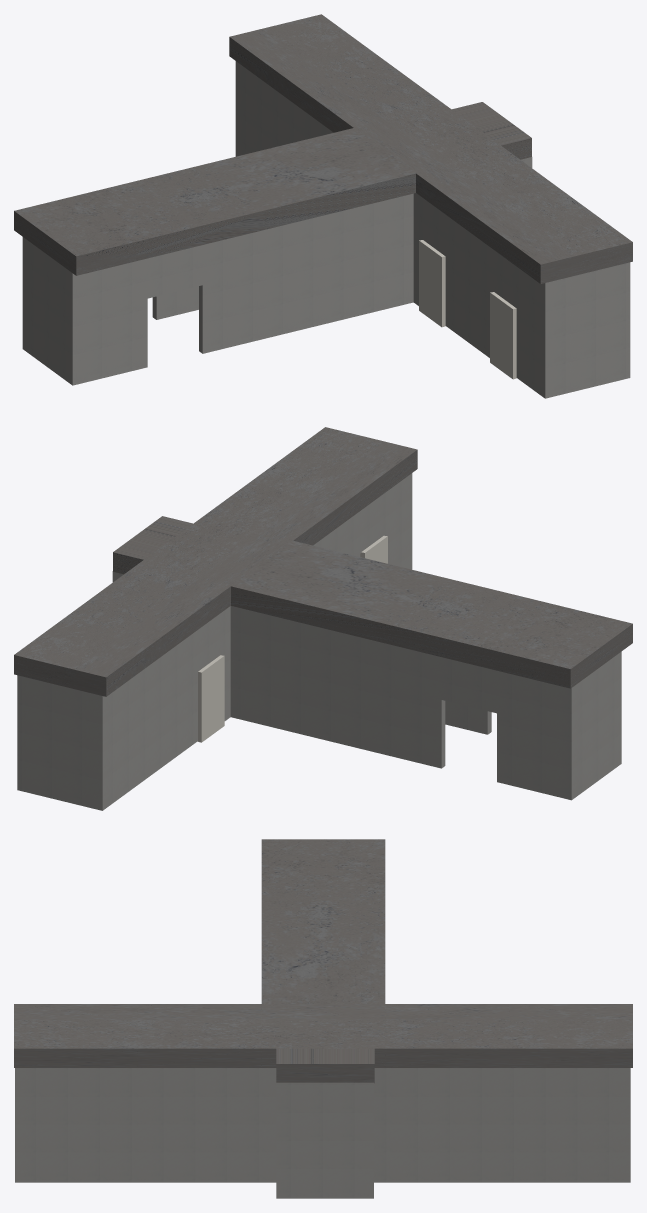
3 renders of one model, top to bottom at view 1: azimuth 30°, elevation 25°; view 2: azimuth 150°, elevation 25°; view 3: azimuth 270°, elevation 25°, orthographic.
Parts seen in each view (by area): view 1: Building, Cielling, zz001, zz002; view 2: Building, Cielling, zz; view 3: Building, Cielling.
Boxes of the visible parts, <box> form: Building: <box>22,61,630,398</box>; Cielling: <box>14,14,632,283</box>; zz001: <box>419,240,445,327</box>; zz002: <box>490,292,516,379</box>; Building: <box>17,473,621,810</box>; Cielling: <box>14,427,632,696</box>; zz: <box>197,655,224,742</box>; Building: <box>15,1068,630,1198</box>; Cielling: <box>14,839,632,1083</box>.
Size of the model in its own units: 14.13 by 3.97 by 16.44.
Materials: 5 (4 with a texture image).
